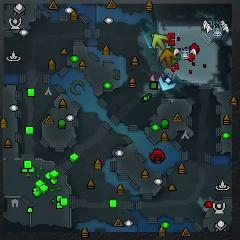x1: (150, 72, 164, 90)
x2: (152, 32, 169, 51)
x3: (159, 73, 176, 92)
x4: (169, 46, 181, 65)
x5: (158, 49, 177, 68)
